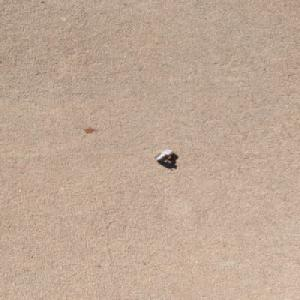MetalPart: (153, 148, 175, 164)
